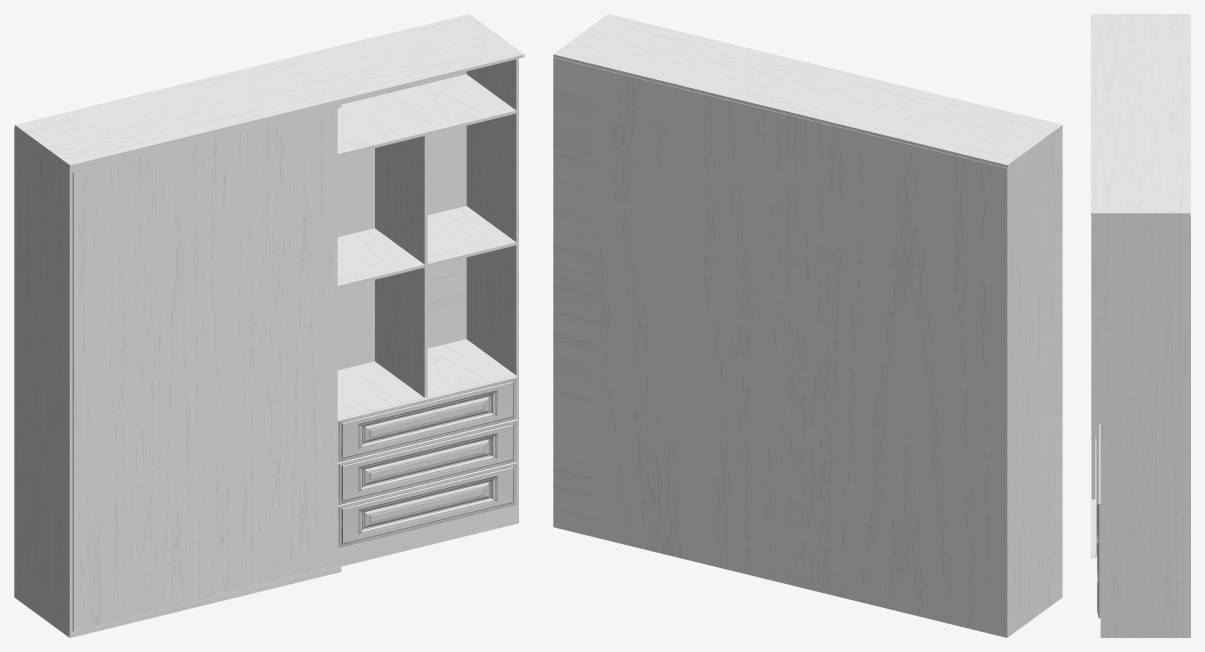
The model's file is closet.glb.
3 views of the same model, side by side, from view 1: azimuth 30°, elevation 25°; view 2: azimuth 150°, elevation 25°; view 3: azimuth 270°, elevation 25° (orthographic). The views are drawn at different scales.
Parts seen in each view (by area): view 1: Plane, Plane.001, wall1, ceiling, back wall, wall4, wall5, shelf6, box 1, box 2, box3, shelf7 (+5 smaller); view 2: back wall, wall1, ceiling; view 3: wall4, ceiling, Plane, Plane.001, wall1, back wall, guide, box 1.
Part boxes in pixels (x1=…): Plane: x1=72, y1=139, x2=211, y2=631; Plane.001: x1=211, y1=108, x2=337, y2=595; wall1: x1=14, y1=128, x2=72, y2=637; ceiling: x1=14, y1=14, x2=524, y2=167; back wall: x1=14, y1=71, x2=466, y2=597; wall4: x1=466, y1=58, x2=518, y2=523; wall5: x1=375, y1=135, x2=427, y2=397; shelf6: x1=337, y1=74, x2=516, y2=156; box 1: x1=337, y1=375, x2=517, y2=462; box 2: x1=337, y1=419, x2=517, y2=505; box3: x1=337, y1=462, x2=517, y2=547; shelf7: x1=337, y1=339, x2=515, y2=418; back wall: x1=553, y1=57, x2=1007, y2=637; wall1: x1=1007, y1=128, x2=1062, y2=637; ceiling: x1=553, y1=14, x2=1062, y2=167; wall4: x1=1100, y1=216, x2=1190, y2=637; ceiling: x1=1091, y1=14, x2=1190, y2=215; Plane: x1=1091, y1=216, x2=1095, y2=499; Plane.001: x1=1096, y1=216, x2=1099, y2=555; wall1: x1=1091, y1=216, x2=1100, y2=439; back wall: x1=1190, y1=16, x2=1190, y2=637; guide: x1=1091, y1=435, x2=1097, y2=557; box 1: x1=1097, y1=424, x2=1100, y2=541.
Size of the model in its own units: 2.63 by 2.62 by 0.557.
12 materials, 11 textured.
